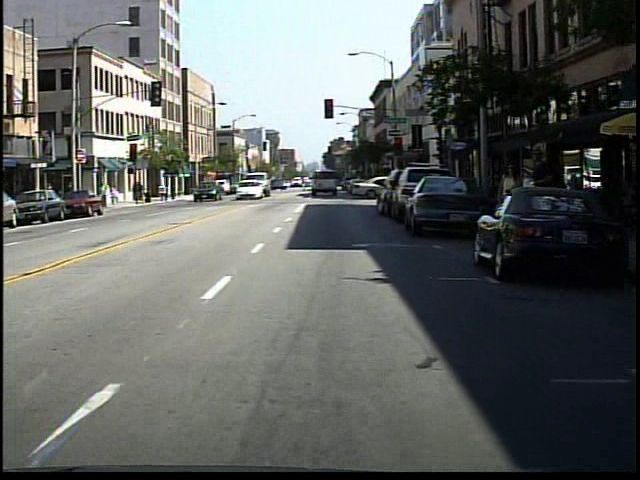person: (521, 143, 556, 253), (496, 155, 524, 251), (97, 180, 112, 207), (112, 185, 125, 211)
